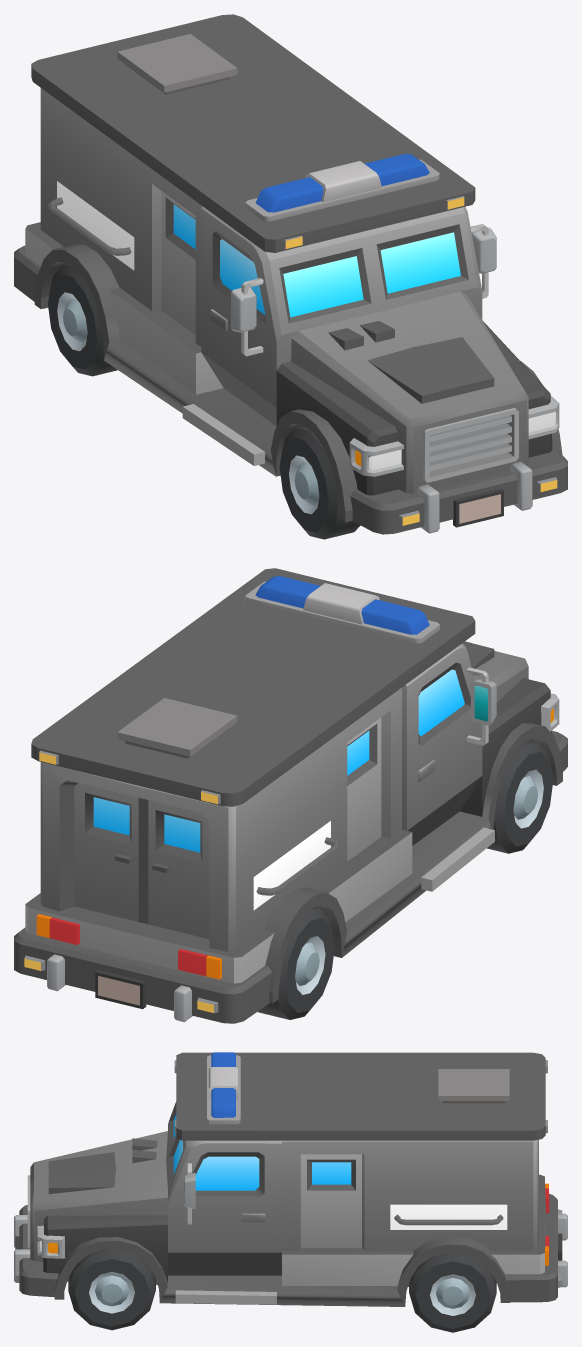
Rendered from Police_Truck_01.glb.
The picture shows the model from 3 angles, top to bottom: view 1: azimuth 30°, elevation 25°; view 2: azimuth 150°, elevation 25°; view 3: azimuth 270°, elevation 25°; orthographic projection. The views are drawn at different scales.
Parts seen in each view (by area): view 1: Police_Truck_01, Wheel_173, Wheel_174; view 2: Police_Truck_01, Wheel_173, Wheel_174; view 3: Police_Truck_01, Wheel_175, Wheel_176.
Boxes of the visible parts, left/top/right/bottom form: Police_Truck_01: left=14, top=14, right=567, bottom=534; Wheel_173: left=279, top=425, right=360, bottom=539; Wheel_174: left=48, top=263, right=117, bottom=376; Police_Truck_01: left=14, top=568, right=567, bottom=1023; Wheel_173: left=487, top=740, right=553, bottom=853; Wheel_174: left=257, top=907, right=334, bottom=1019; Police_Truck_01: left=14, top=1052, right=567, bottom=1306; Wheel_175: left=68, top=1249, right=155, bottom=1330; Wheel_176: left=409, top=1253, right=496, bottom=1332.
Size of the model in its own units: 2.67 by 2.77 by 6.49.
Materials: 2 (2 with a texture image).
